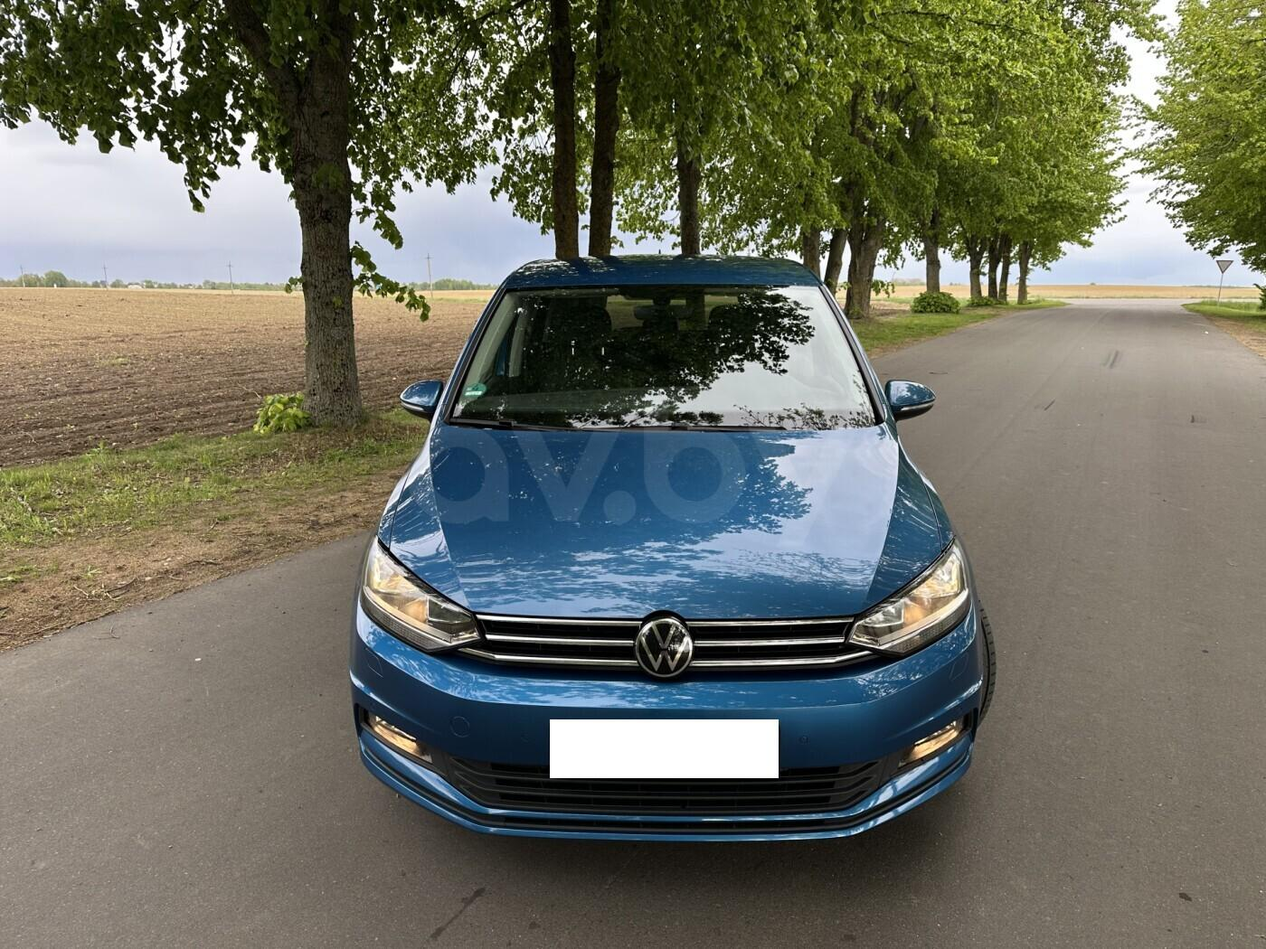Touran_2015: (346, 252, 993, 843)
